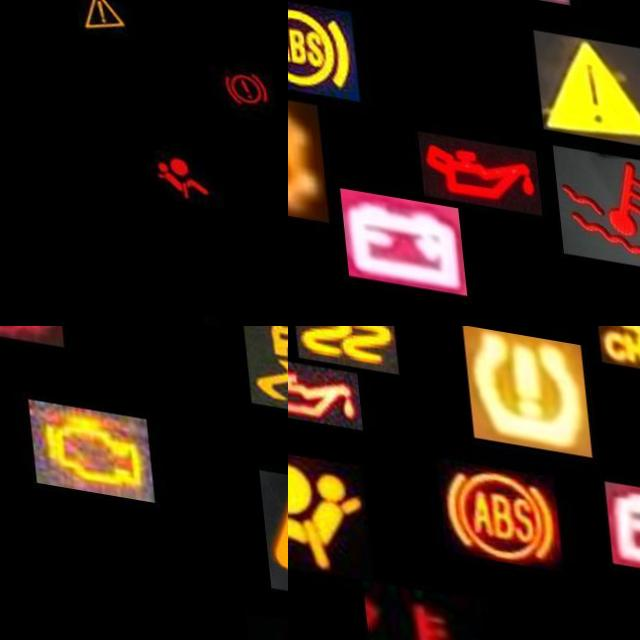Central Warning lamp: (531, 12, 640, 127), (254, 452, 288, 581)
Engine cooling system: (548, 127, 640, 251), (351, 575, 478, 640)
